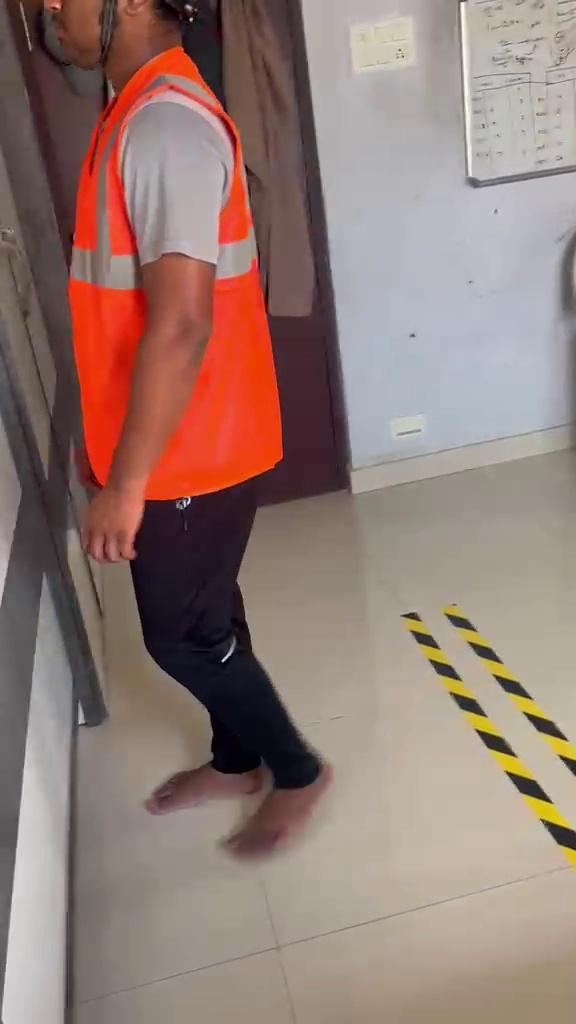BorderLine: (398, 609, 575, 865)
Person: (45, 1, 333, 860)
Vest: (69, 44, 283, 502)
